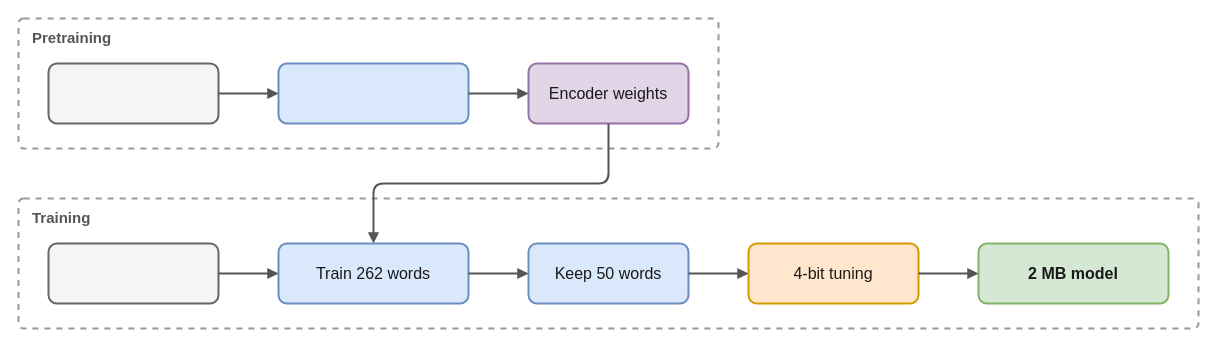
This 1216x346 diagram has some shape labels left out. Each missing label, with the centre of its shape:
"INCLUDE clips" goes at (133,273).
"iSign videos" goes at (133,93).
"Masked pretraining" goes at (373,93).
